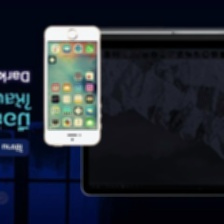phone: (40, 22, 104, 150)
